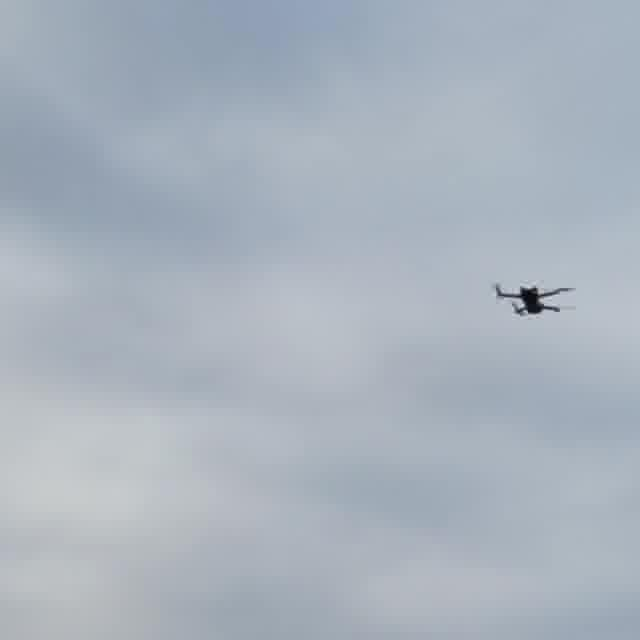Drohne: (496, 284, 574, 315)
